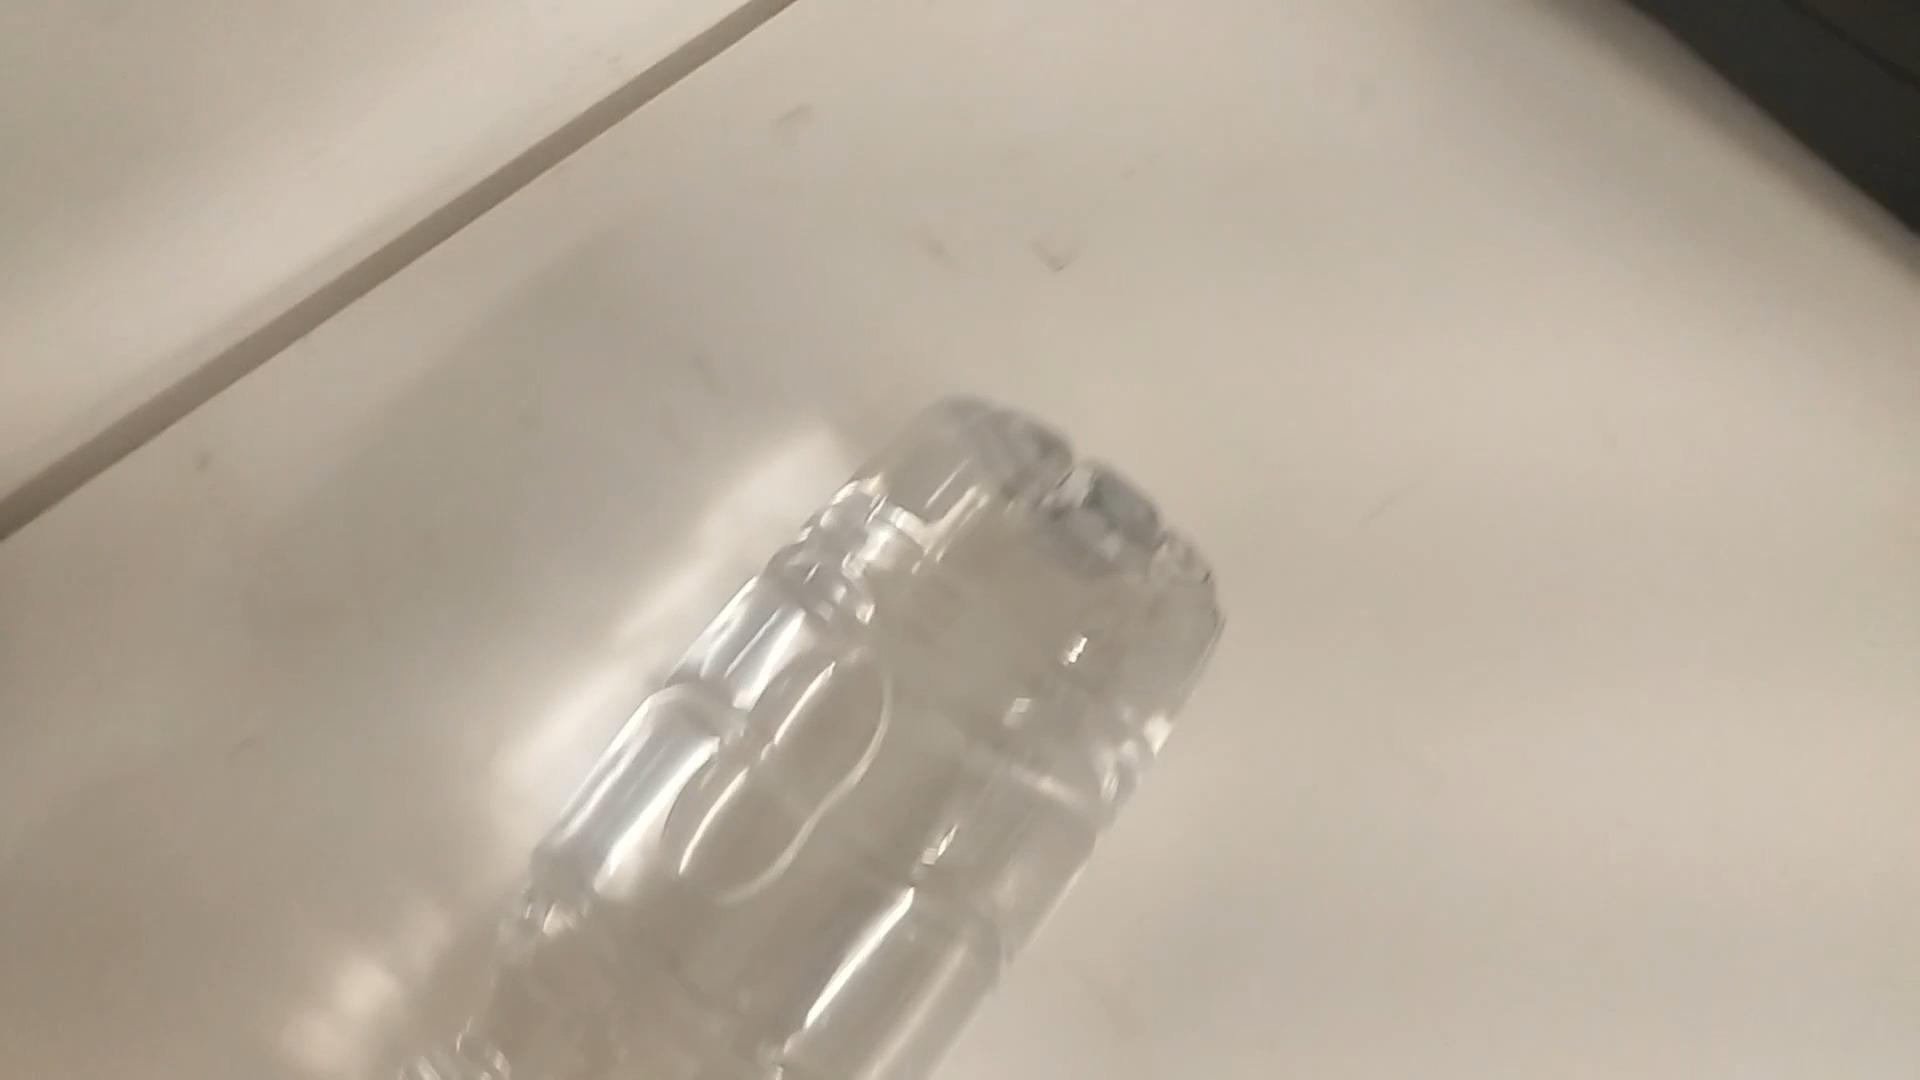agua: (334, 392, 1236, 1080)
